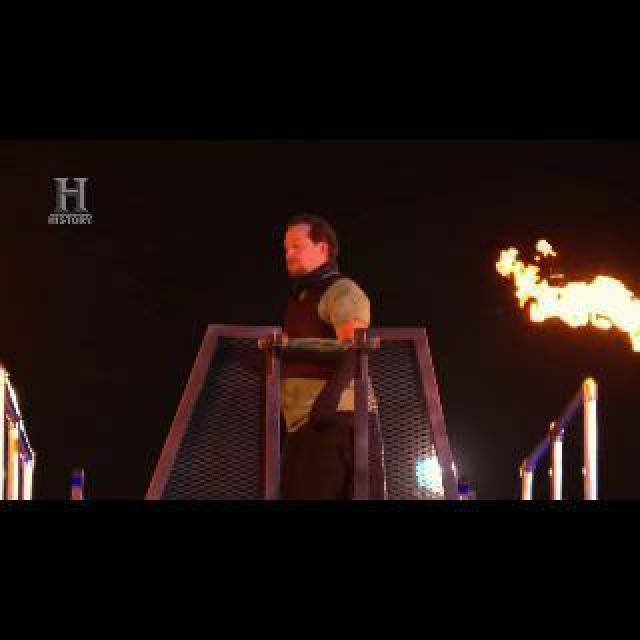smoke: (494, 230, 638, 352)
